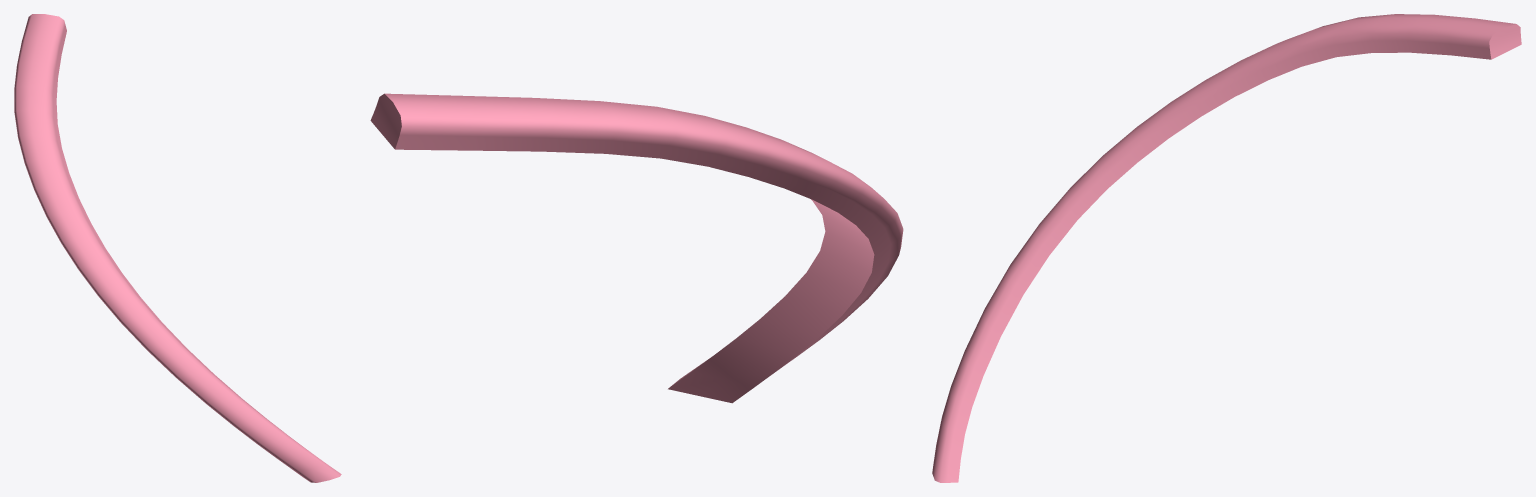
The picture shows the model from 3 angles, left to right: view 1: azimuth 30°, elevation 25°; view 2: azimuth 150°, elevation 25°; view 3: azimuth 270°, elevation 25°; orthographic projection. The views are drawn at different scales.
Parts seen in each view (by area): view 1: Plane370; view 2: Plane370; view 3: Plane370.
Boxes of the visible parts, box(x1,y1,x2,y2) form: Plane370: box(14, 14, 341, 482); Plane370: box(370, 93, 903, 403); Plane370: box(932, 14, 1521, 482).
Bounding box in the file's own units: 0.1374 × 0.2236 × 0.2931.
